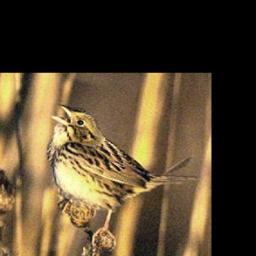Sparrow: (48, 103, 201, 250)
